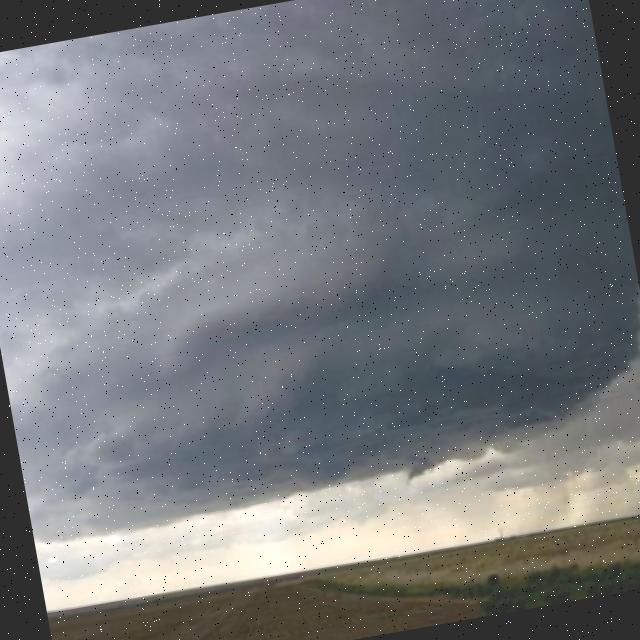Cb: (1, 1, 640, 578)
